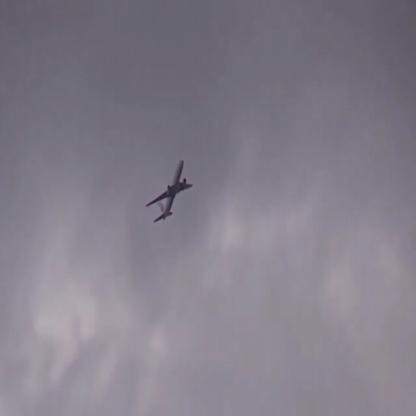CIV_Plane: (144, 156, 196, 228)
